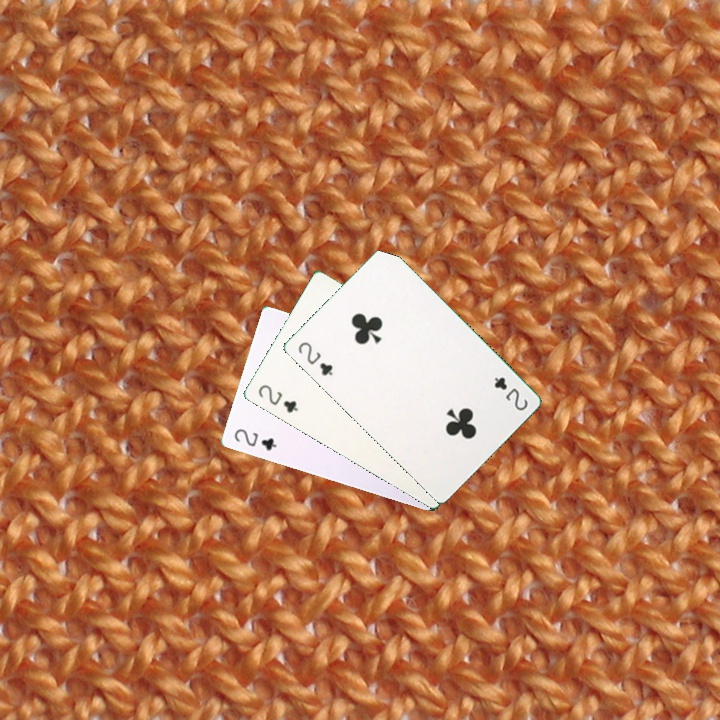2c: (294, 337, 335, 378), (254, 380, 300, 416), (490, 373, 530, 413), (230, 424, 279, 453)
